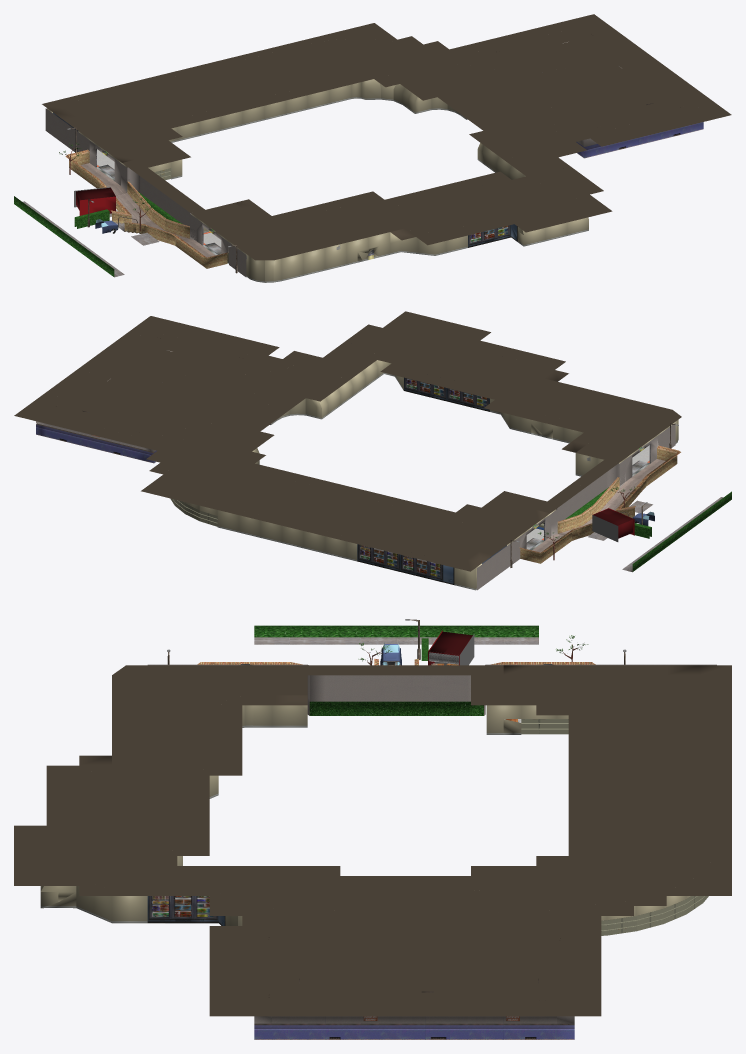
File: market2.fbx
The picture shows the model from 3 angles, top to bottom: view 1: azimuth 30°, elevation 25°; view 2: azimuth 150°, elevation 25°; view 3: azimuth 270°, elevation 25°; orthographic projection. The views are drawn at different scales.
Visible parts, largest first — view 1: Mesh; view 2: Mesh; view 3: Mesh.
Boxes of the visible parts, x1=… form: Mesh: x1=14, y1=14, x2=731, y2=282; Mesh: x1=14, y1=311, x2=731, y2=590; Mesh: x1=14, y1=619, x2=731, y2=1039.
Bounding box in the file's own units: 27733 × 1821 × 20167.
